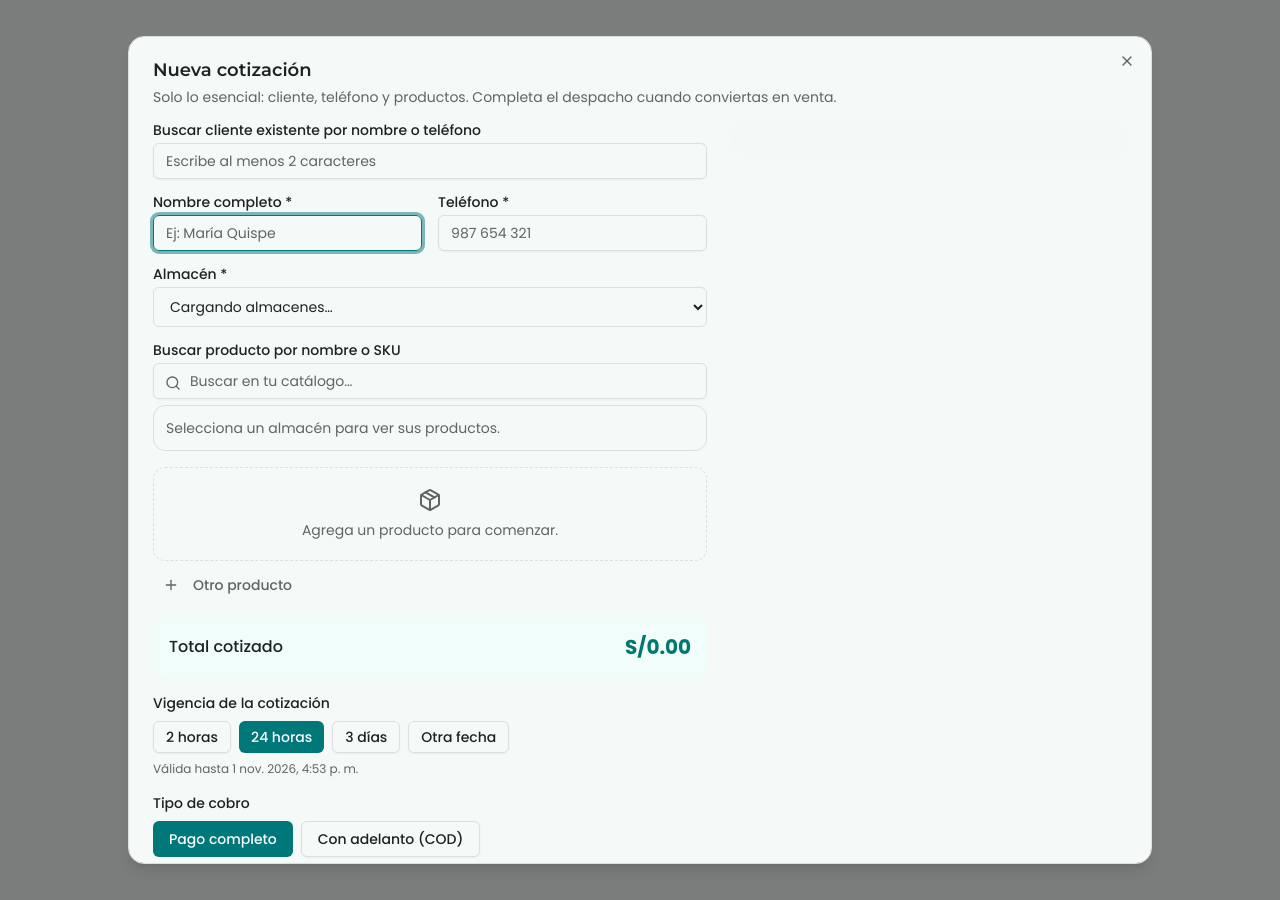
Scenario: rejects a past custom expiry before posting
Type "Ana" into the field labelled "Nombre completo *".
click(288, 233); type("Ana")  # box [153, 215, 422, 251]
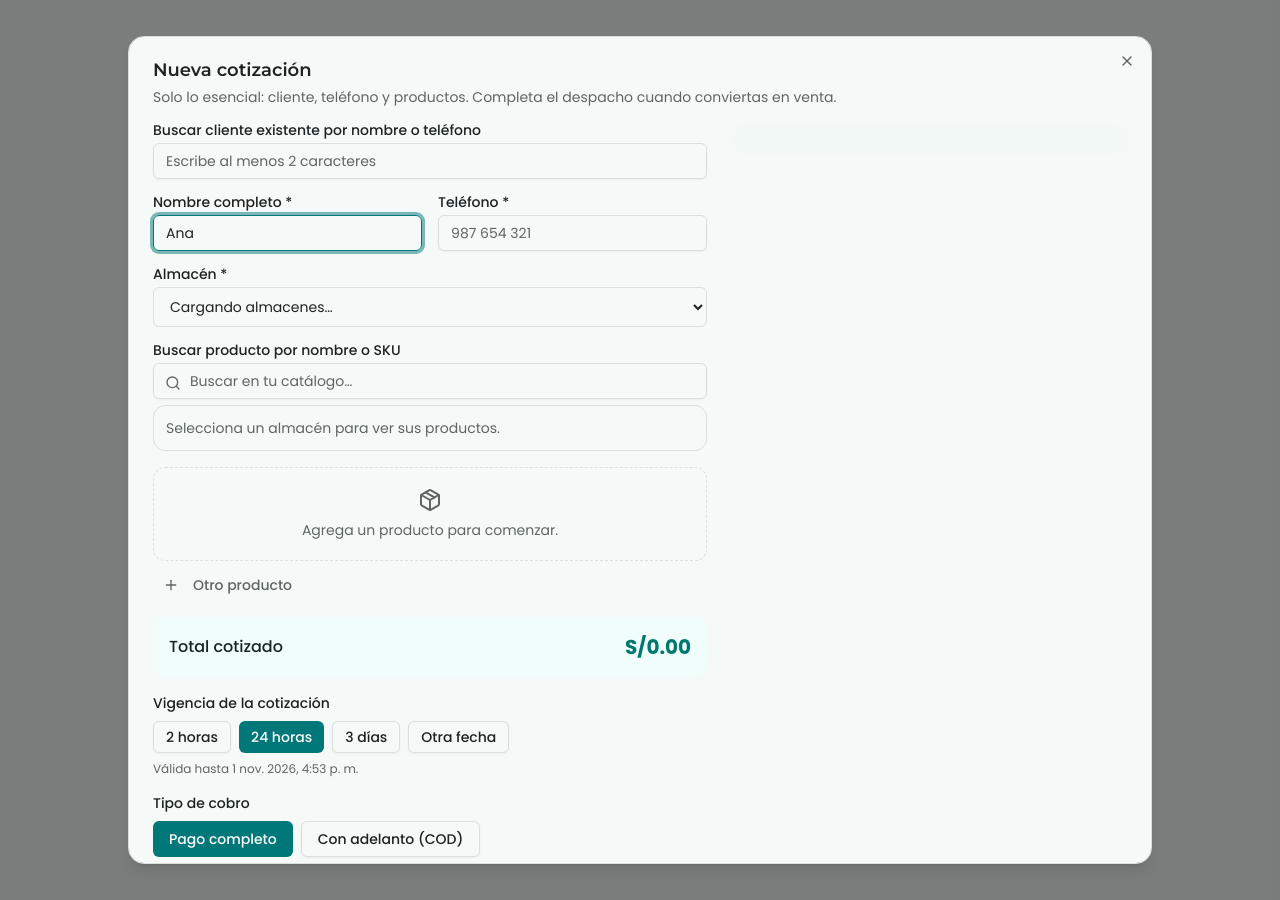
Type "999222333" into the field labelled "Teléfono *".
click(573, 233); type("999222333")  # box [438, 215, 707, 251]
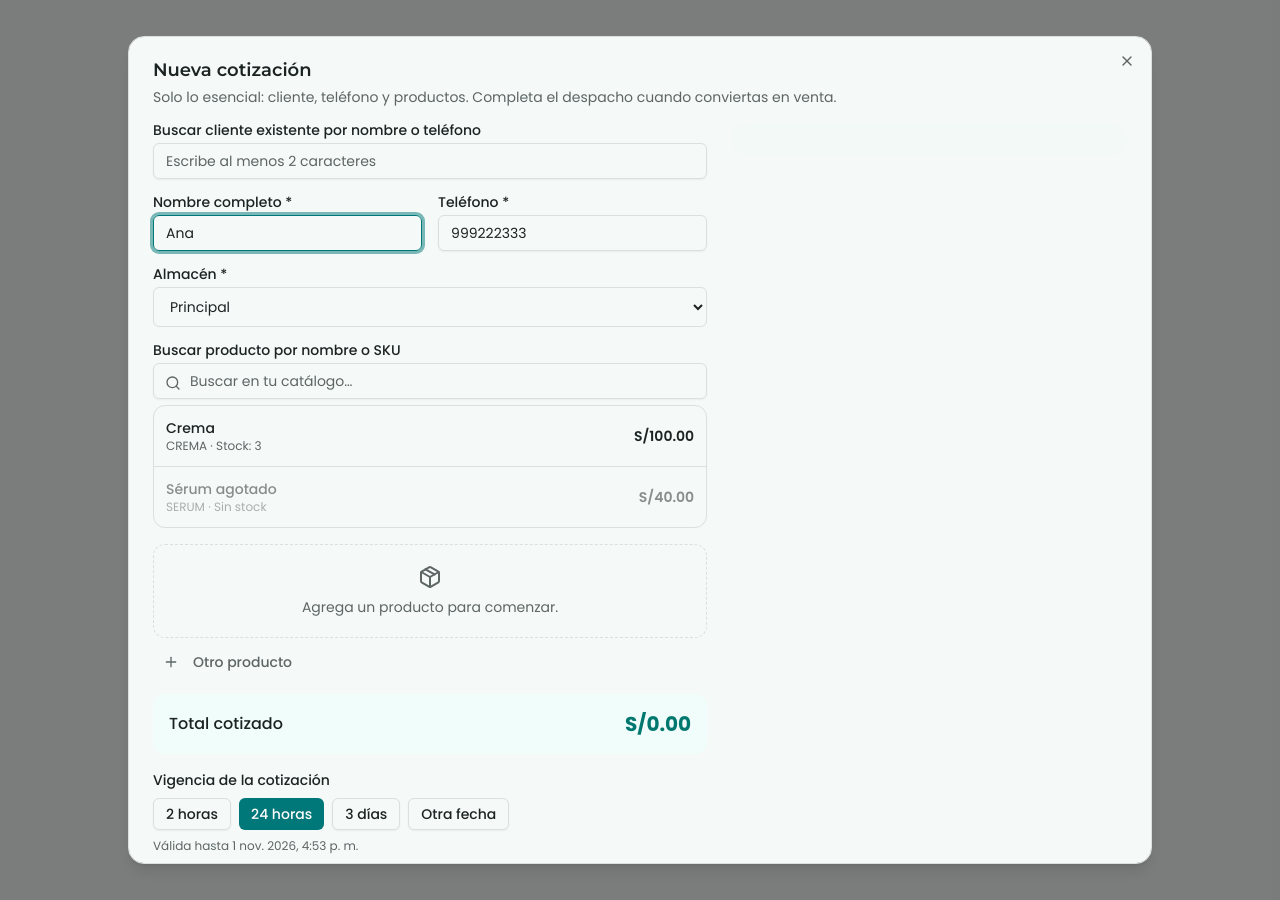
Click the button "Crema CREMA · Stock: 3 S/100.00".
click(190, 428)  # box [154, 406, 706, 467]
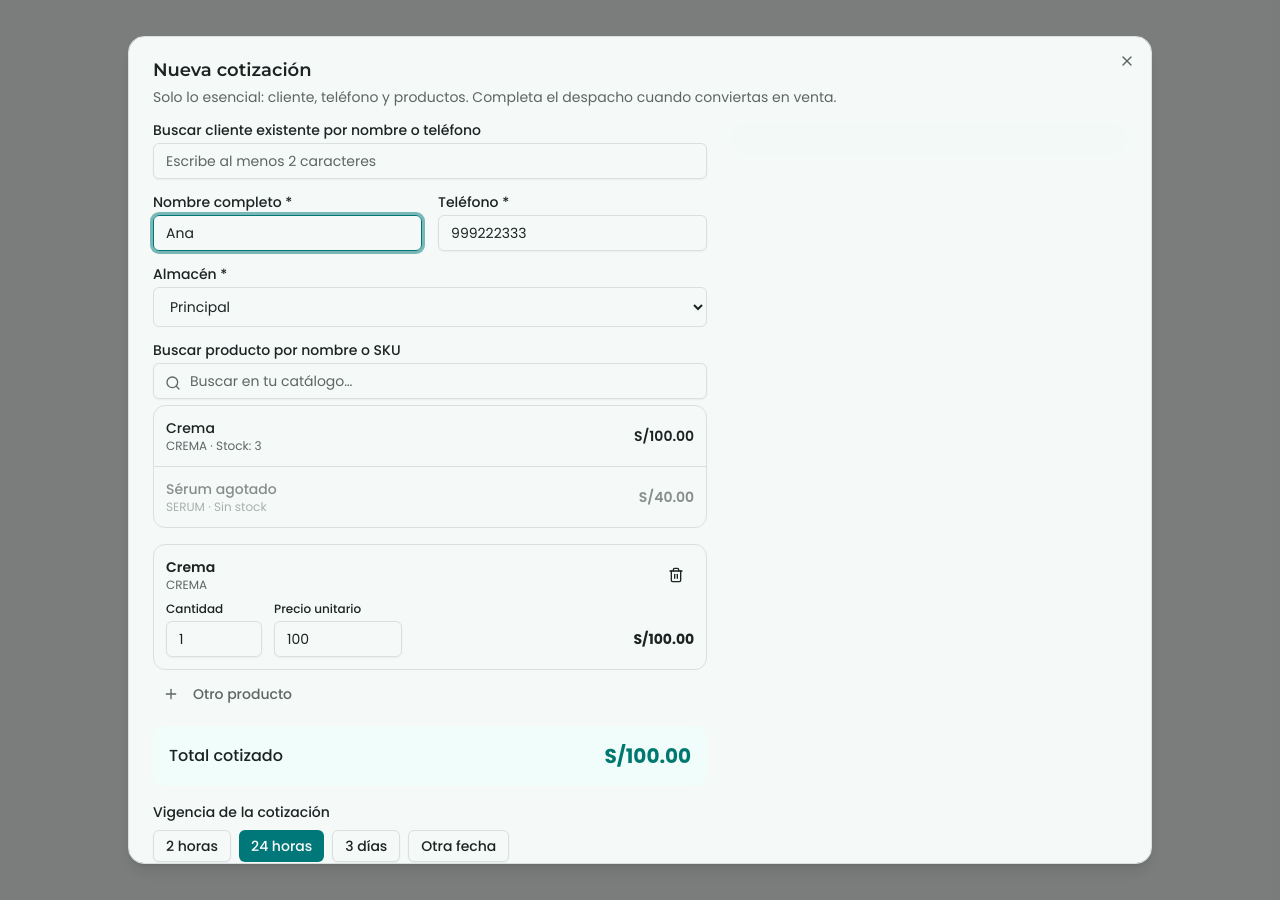
Click the button "Otra fecha".
click(459, 846)  # box [408, 830, 509, 862]
(page scrolled)
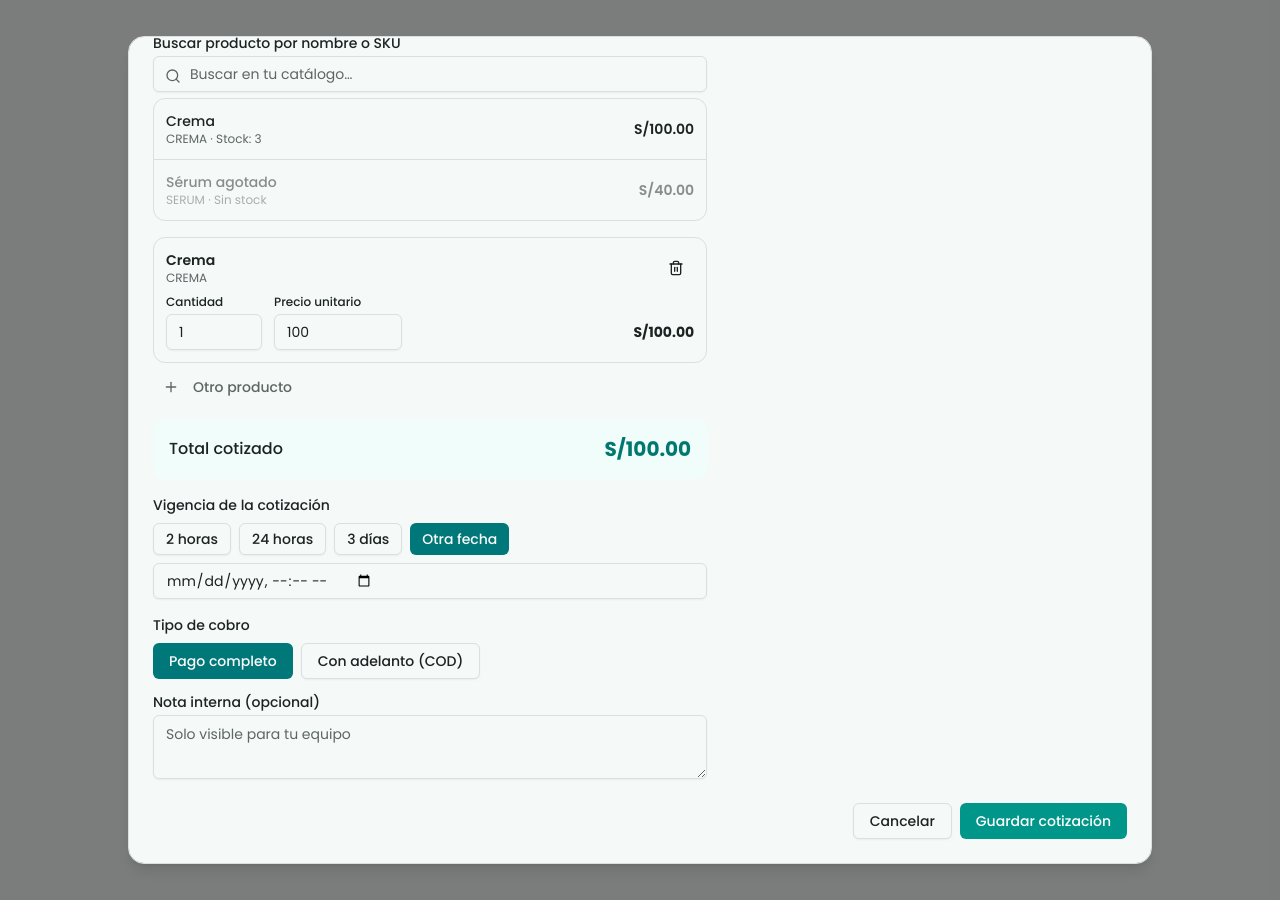
Type "2020-01-01T10:00" into the field named "Fecha y hora de vigencia".
click(430, 581); type("2020-01-01T10:00")  # box [153, 563, 707, 599]
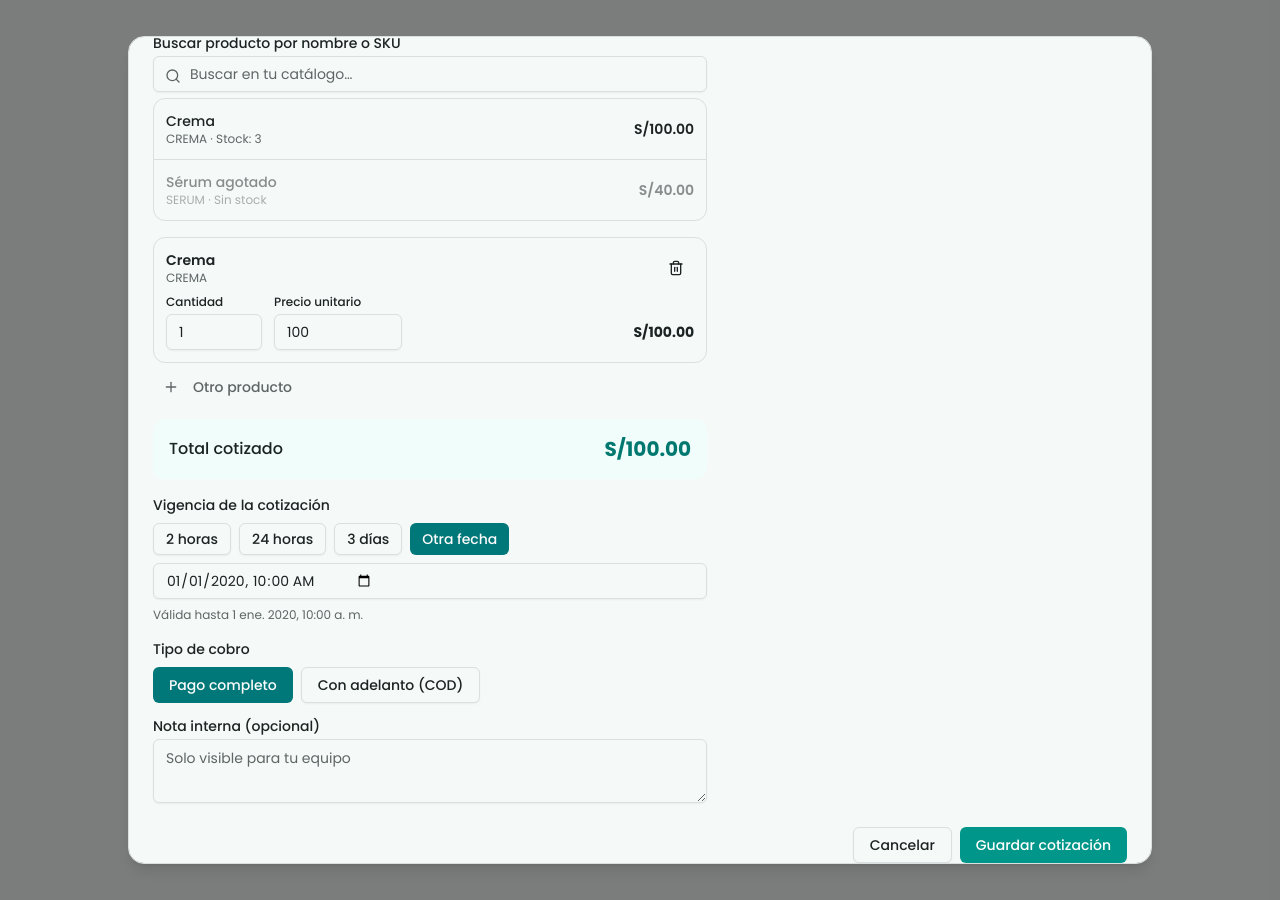
Click the button "Guardar cotización".
click(1043, 845)  # box [960, 827, 1127, 863]
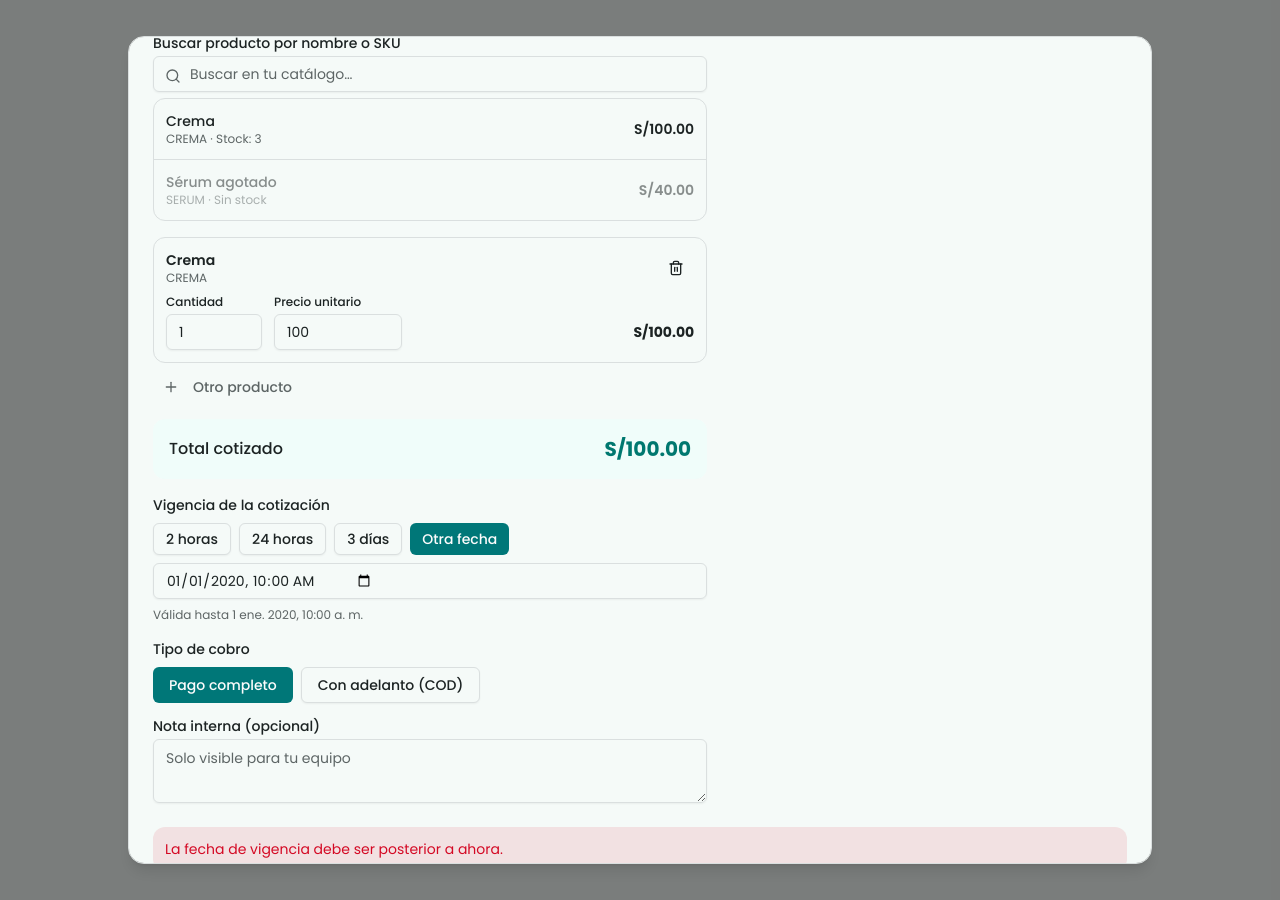
Now the message reads "La fecha de vigencia debe ser posterior a ahora.", box [165, 839, 503, 859]
